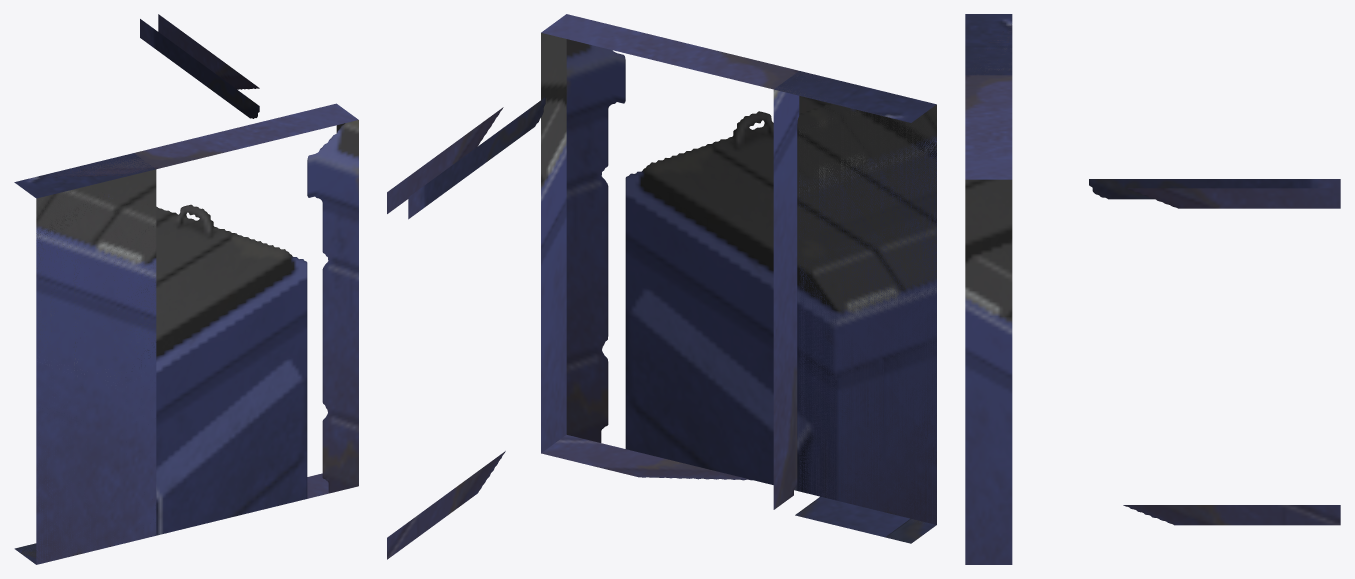
The picture shows the model from 3 angles, left to right: view 1: azimuth 30°, elevation 25°; view 2: azimuth 150°, elevation 25°; view 3: azimuth 270°, elevation 25°; orthographic projection. The views are drawn at different scales.
Size of the model in its own units: 0.8225 by 0.893 by 0.788.
